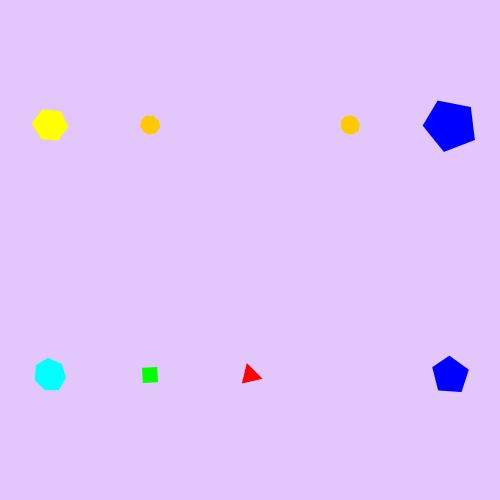heptagon: (30, 356, 71, 395)
hexagon: (28, 107, 72, 144)
nonagon: (136, 111, 165, 139), (336, 111, 365, 139)
pentagon: (421, 96, 480, 155), (428, 353, 472, 397)
quadrilateral: (135, 360, 165, 390)
triangle: (237, 361, 264, 389)
